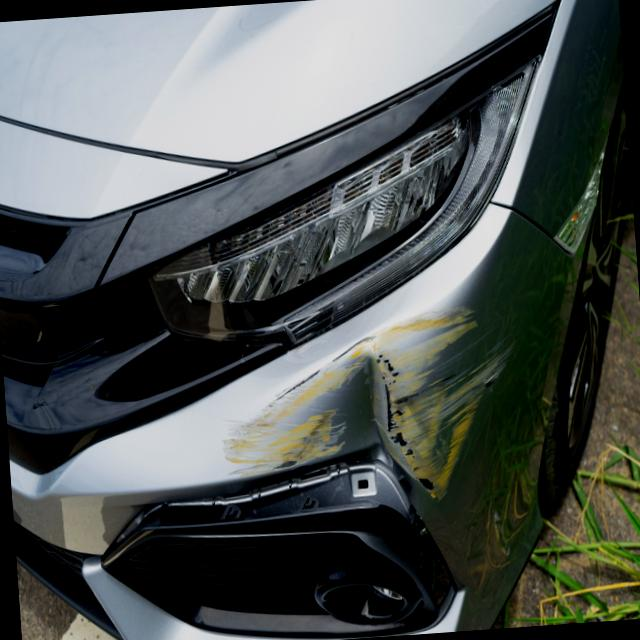Cabossage: (302, 321, 395, 488)
Dechirure: (188, 424, 384, 509)
Rayure: (208, 293, 532, 527)
